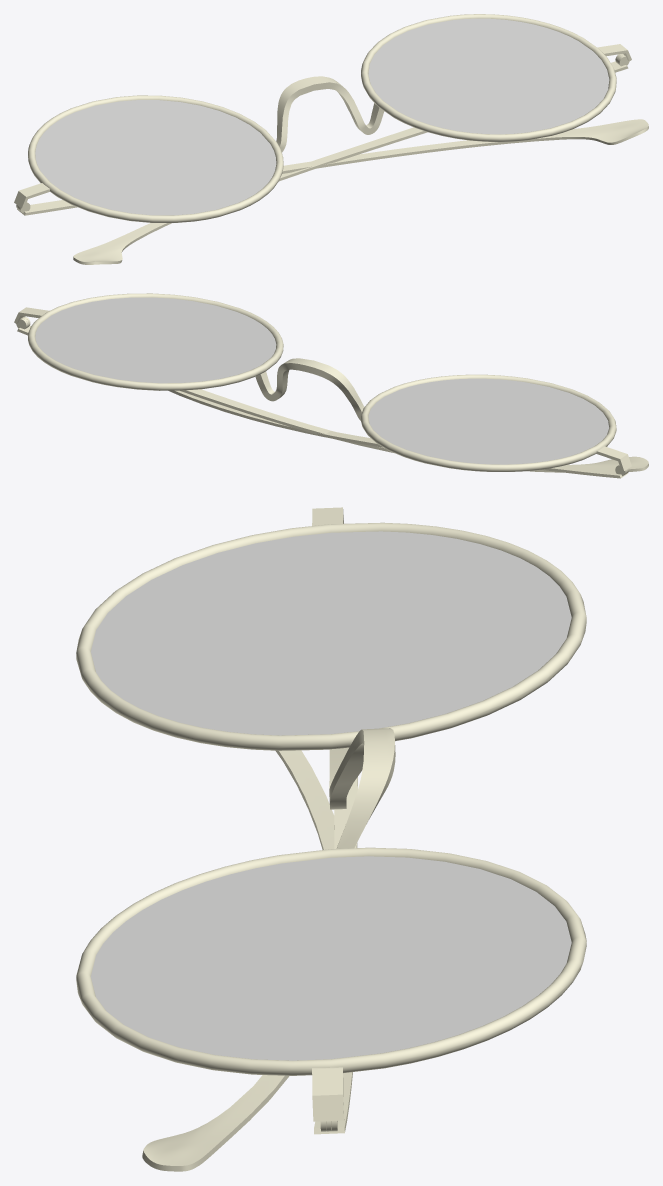
Rendered from 1070_gold_frame_round_glasses_folded.glb.
The picture shows the model from 3 angles, top to bottom: view 1: azimuth 30°, elevation 25°; view 2: azimuth 150°, elevation 25°; view 3: azimuth 270°, elevation 25°; orthographic projection. The views are drawn at different scales.
Parts seen in each view (by area): view 1: Body, つる1, つる2; view 2: Body, つる2, つる1; view 3: Body, つる1, つる2.
Boxes of the visible parts, <box> form: Body: <box>14,14,631,222</box>; つる1: <box>17,119,648,215</box>; つる2: <box>73,54,628,264</box>; Body: <box>14,293,631,476</box>; つる2: <box>17,317,648,472</box>; つる1: <box>168,390,628,478</box>; Body: <box>76,507,586,1131</box>; つる1: <box>142,777,357,1171</box>; つる2: <box>275,750,352,1134</box>.
Size of the model in its own units: 0.1191 by 0.0156 by 0.0432.
